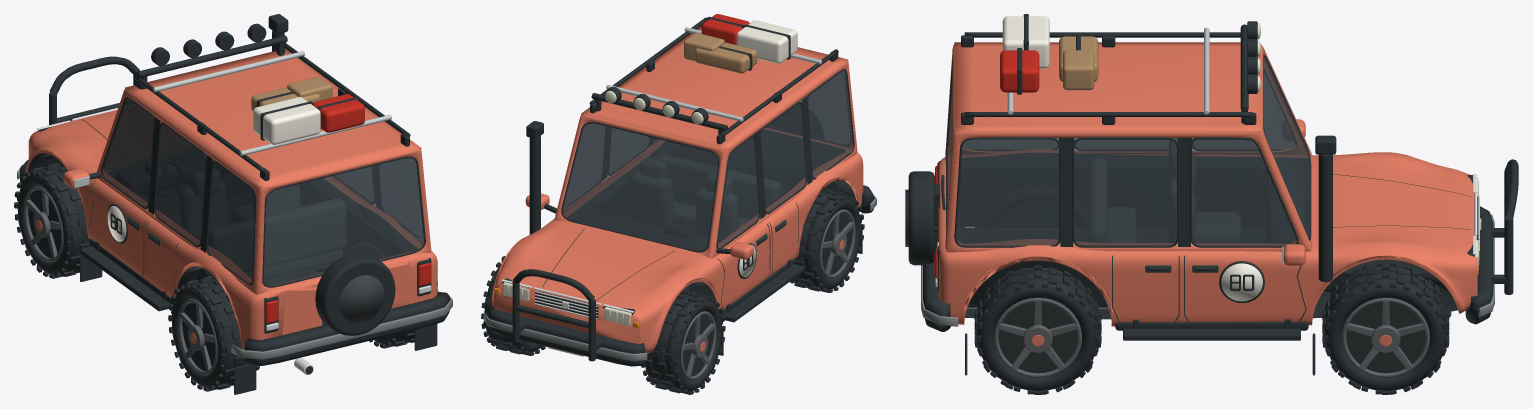
Rendered from yama.fbx.
The picture shows the model from 3 angles, left to right: view 1: azimuth 30°, elevation 25°; view 2: azimuth 150°, elevation 25°; view 3: azimuth 270°, elevation 25°; orthographic projection. The views are drawn at different scales.
Visible parts, largest first — view 1: Body, Wheel_RL_Mesh, Wheel_FL_Mesh, Wheel_RR_Mesh; view 2: Body, Wheel_FL_Mesh, Wheel_RL_Mesh, Wheel_FR_Mesh; view 3: Body, Wheel_FR_Mesh, Wheel_RR_Mesh, Wheel_RL_Mesh.
Boxes of the visible parts, <box> form: Body: <box>17,14,452,394</box>; Wheel_RL_Mesh: <box>168,276,259,391</box>; Wheel_FL_Mesh: <box>14,163,90,278</box>; Wheel_RR_Mesh: <box>348,239,438,348</box>; Body: <box>483,14,876,366</box>; Wheel_FL_Mesh: <box>641,290,725,394</box>; Wheel_RL_Mesh: <box>790,188,864,292</box>; Wheel_FR_Mesh: <box>481,253,545,355</box>; Body: <box>905,14,1518,375</box>; Wheel_FR_Mesh: <box>1322,262,1449,394</box>; Wheel_RR_Mesh: <box>974,265,1101,394</box>; Wheel_RL_Mesh: <box>975,184,1087,228</box>.
Bounding box in the file's own units: 246 × 251 × 469.
